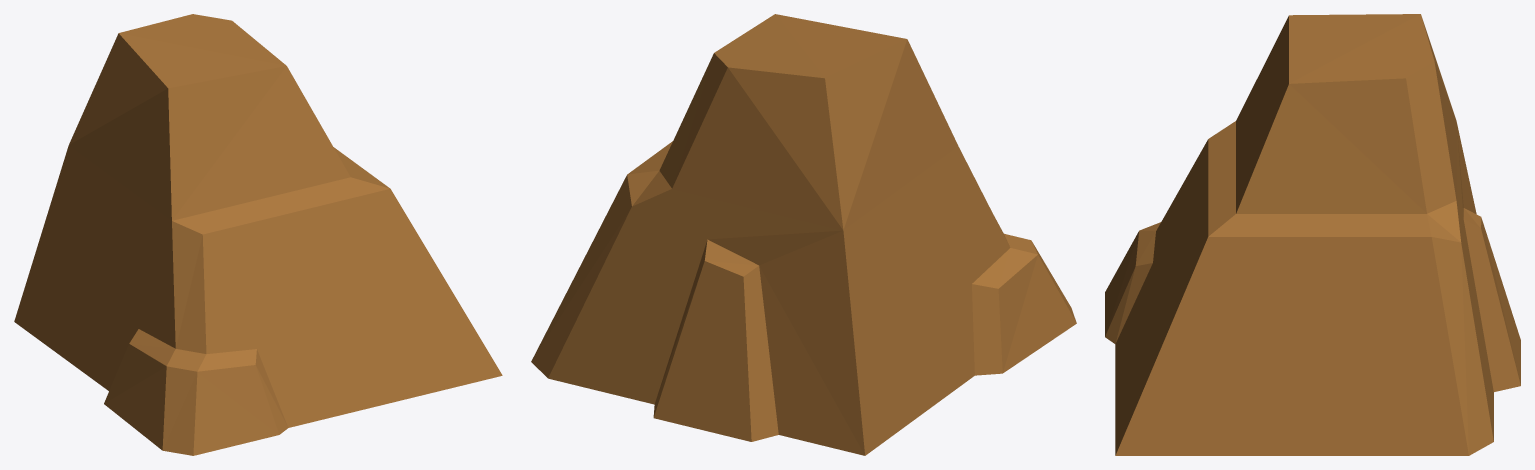
The model's file is SandStoneC.fbx.
3 views of the same model, side by side, from view 1: azimuth 30°, elevation 25°; view 2: azimuth 150°, elevation 25°; view 3: azimuth 270°, elevation 25° (orthographic). The views are drawn at different scales.
Parts seen in each view (by area): view 1: SandStoneC; view 2: SandStoneC; view 3: SandStoneC.
Boxes of the visible parts, x1,y1,x2,y2 form: SandStoneC: [14, 14, 502, 455]; SandStoneC: [531, 14, 1076, 455]; SandStoneC: [1105, 14, 1520, 455].
Size of the model in its own units: 46.7 by 39.86 by 47.49.
